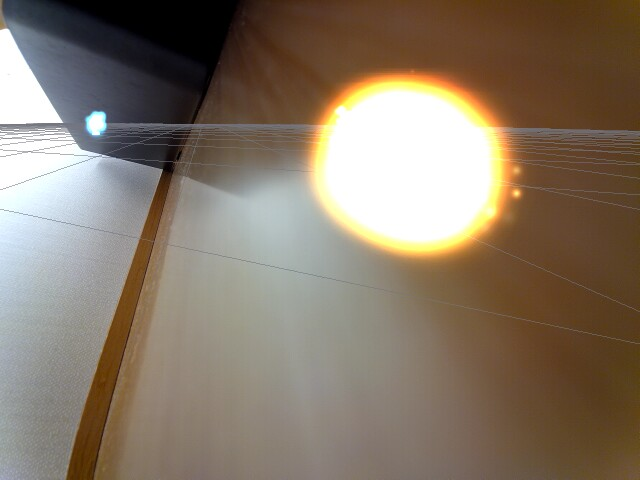fire: (311, 68, 525, 273)
